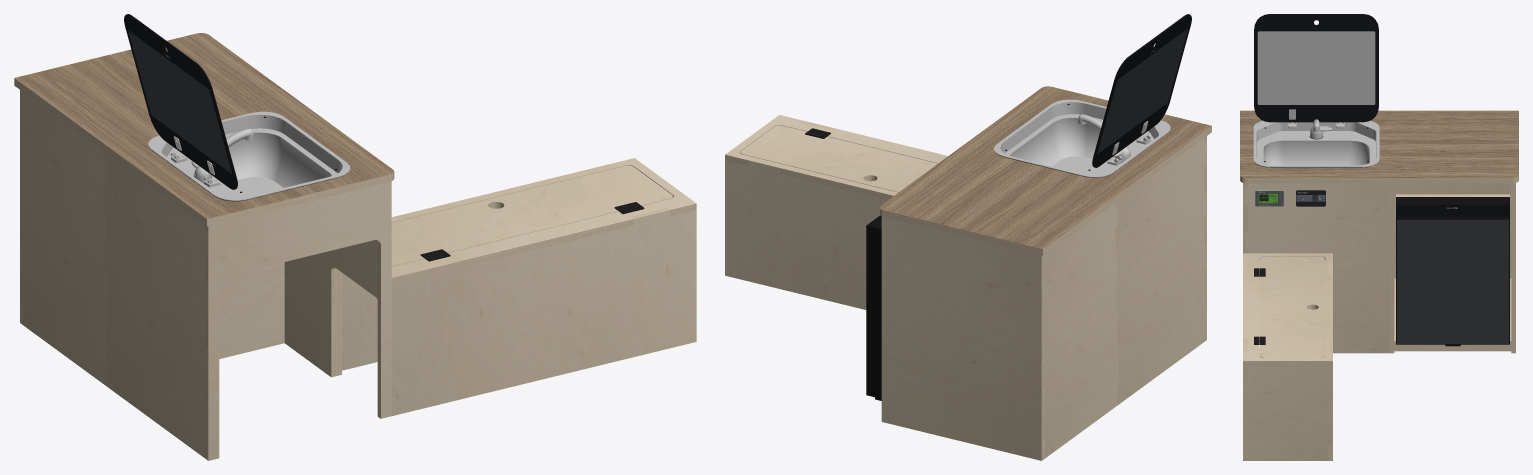
File: front-module-birch.glb
3 renders of one model, left to right at view 1: azimuth 30°, elevation 25°; view 2: azimuth 150°, elevation 25°; view 3: azimuth 270°, elevation 25°, orthographic. The views are drawn at different scales.
Parts seen in each view (by area): view 1: Forward end panel -15mm with top tenons_1, Back panel - 15mm with tenons_0.001, ボディ61_0, Back panel - 15mm with tenons_0.002, Forward end panel -15mm with top tenons_1.001, ボディ56_1, Stainless basin with rear faucet ledge_0, Front panel - 15mm with tenons_1.001, Gray ceramic printed field approximation_0, Forward end panel -15mm with top tenons_1.002, ボディ57_1, Black safety glass_0 (+3 smaller); view 2: Rearward end panel -15mm with top tenons_1.001, ボディ61_0, Back panel - 15mm with tenons_0.001, Rearward end panel -15mm with top tenons_1, Back panel - 15mm with tenons_0.002, Stainless basin with rear faucet ledge_0, ボディ56_1, Gray ceramic printed field approximation_0, Door black surround with full-width recessed handle_0, ボディ57_1, Black safety glass_0, ボディ57_0 (+1 smaller); view 3: Front panel - 15mm with tenons_1.001, Dark gray frameless face_0, ボディ61_0, ボディ15 (1)_0, Front panel - 15mm with tenons_0, ボディ56_1, Stainless basin with rear faucet ledge_0, Black safety glass_0, ボディ57_1, Door black surround with full-width recessed handle_0, ボディ53_1, ボディ51_1 (+9 smaller).
Boxes of the visible parts, x1=… form: Forward end panel -15mm with top tenons_1: x1=391, y1=210, x2=696, y2=415; Back panel - 15mm with tenons_0.001: x1=107, y1=154, x2=207, y2=458; ボディ61_0: x1=14, y1=33, x2=394, y2=226; Back panel - 15mm with tenons_0.002: x1=21, y1=92, x2=105, y2=383; Forward end panel -15mm with top tenons_1.001: x1=208, y1=181, x2=391, y2=460; ボディ56_1: x1=391, y1=165, x2=672, y2=265; Stainless basin with rear faucet ledge_0: x1=148, y1=111, x2=350, y2=200; Front panel - 15mm with tenons_1.001: x1=284, y1=240, x2=377, y2=376; Gray ceramic printed field approximation_0: x1=128, y1=30, x2=231, y2=173; Forward end panel -15mm with top tenons_1.002: x1=219, y1=262, x2=284, y2=358; ボディ57_1: x1=391, y1=158, x2=696, y2=277; Black safety glass_0: x1=124, y1=14, x2=237, y2=189; Rearward end panel -15mm with top tenons_1.001: x1=881, y1=216, x2=1041, y2=460; ボディ61_0: x1=879, y1=86, x2=1211, y2=255; Back panel - 15mm with tenons_0.001: x1=1118, y1=138, x2=1205, y2=404; Rearward end panel -15mm with top tenons_1: x1=725, y1=160, x2=887, y2=309; Back panel - 15mm with tenons_0.002: x1=1042, y1=203, x2=1116, y2=458; Stainless basin with rear faucet ledge_0: x1=994, y1=99, x2=1170, y2=177; ボディ56_1: x1=740, y1=125, x2=937, y2=192; Gray ceramic printed field approximation_0: x1=1097, y1=28, x2=1187, y2=153; Door black surround with full-width recessed handle_0: x1=866, y1=215, x2=881, y2=398; ボディ57_1: x1=725, y1=115, x2=947, y2=195; Black safety glass_0: x1=1092, y1=14, x2=1191, y2=167; ボディ57_0: x1=725, y1=125, x2=937, y2=200; Front panel - 15mm with tenons_1.001: x1=1244, y1=183, x2=1389, y2=353; Dark gray frameless face_0: x1=1397, y1=219, x2=1508, y2=343; ボディ61_0: x1=1240, y1=110, x2=1518, y2=183; ボディ15 (1)_0: x1=1257, y1=31, x2=1375, y2=104; Front panel - 15mm with tenons_0: x1=1244, y1=366, x2=1331, y2=460; ボディ56_1: x1=1260, y1=256, x2=1324, y2=357; Stainless basin with rear faucet ledge_0: x1=1253, y1=121, x2=1379, y2=167; Black safety glass_0: x1=1254, y1=14, x2=1378, y2=122; ボディ57_1: x1=1243, y1=253, x2=1332, y2=360; Door black surround with full-width recessed handle_0: x1=1396, y1=197, x2=1509, y2=344; ボディ53_1: x1=1394, y1=183, x2=1511, y2=194; ボディ51_1: x1=1394, y1=341, x2=1511, y2=351.
Bounding box in the file's own units: 1.37 × 1.02 × 0.93.
Materials: 30 (4 with a texture image).
